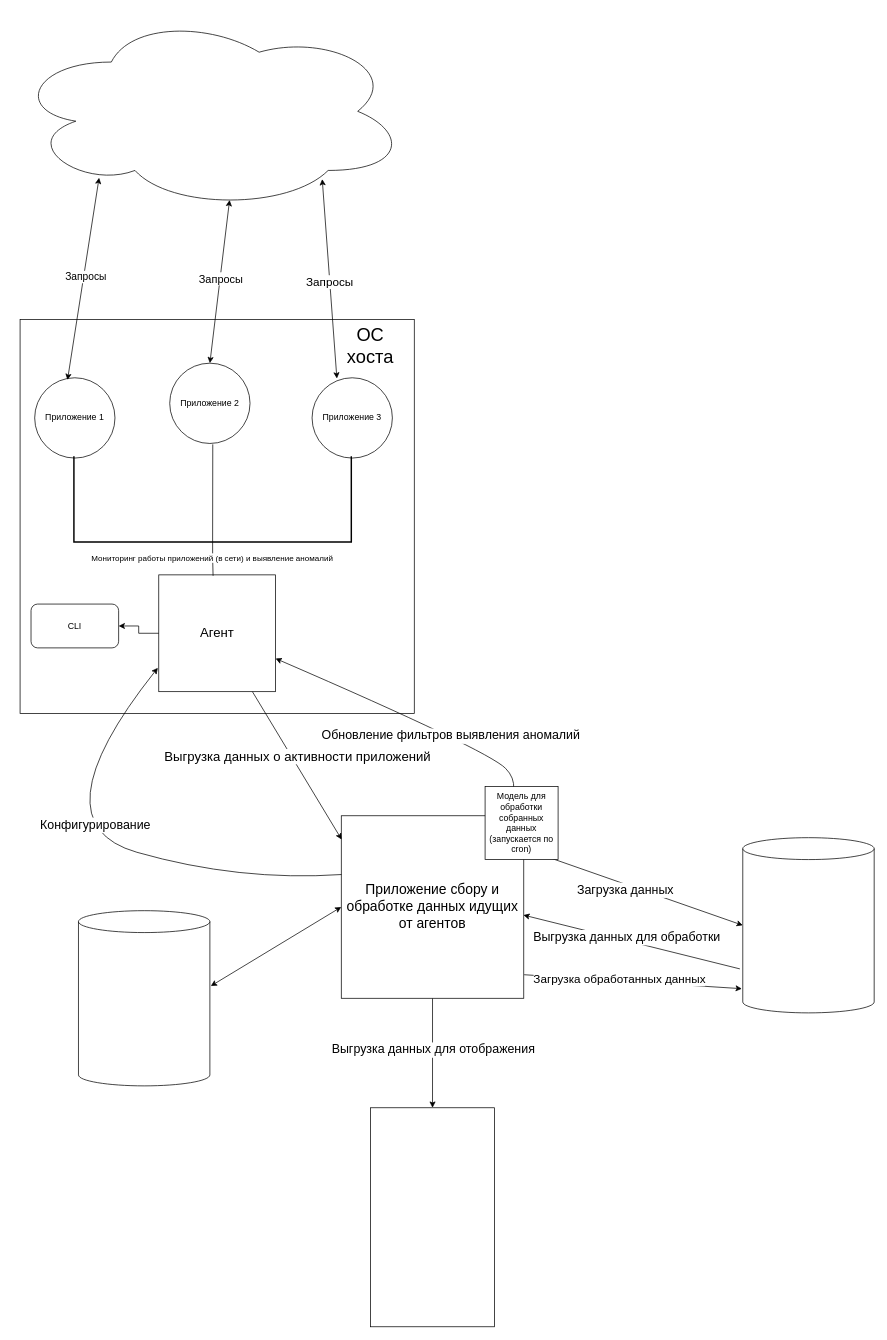
Image size: 887x1340. Some labels were removed from this diagram. The box of each missing label's shape, as (x1, y1, x2, y2) in pixels:
ClickHouse для работы с данными: (742, 837, 874, 1013)
Postgres - база данных приложения: (78, 910, 210, 1086)
UI: (370, 1107, 495, 1327)
Сеть: (12, 12, 407, 210)
